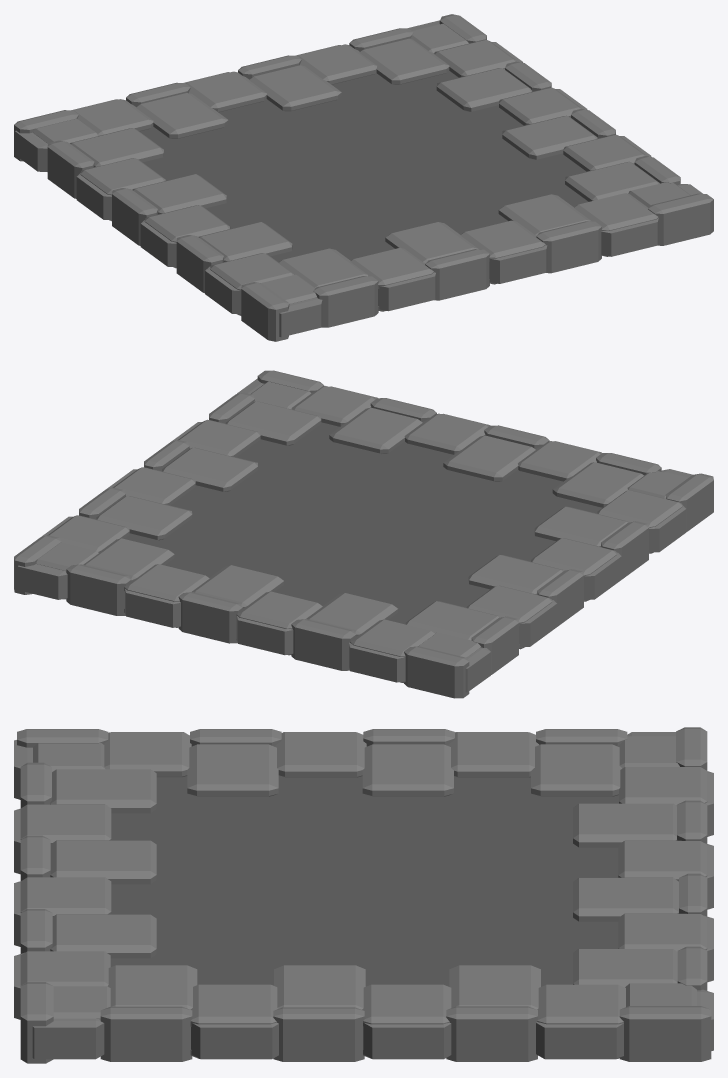
The model's file is DungeonWallTop.fbx.
The picture shows the model from 3 angles, top to bottom: view 1: azimuth 30°, elevation 25°; view 2: azimuth 150°, elevation 25°; view 3: azimuth 270°, elevation 25°; orthographic projection. The views are drawn at different scales.
Parts seen in each view (by area): view 1: DungeonWallTop; view 2: DungeonWallTop; view 3: DungeonWallTop.
Boxes of the visible parts, <box> form: DungeonWallTop: <box>14,14,713,341</box>; DungeonWallTop: <box>14,370,713,698</box>; DungeonWallTop: <box>14,727,713,1063</box>.
Size of the model in its own units: 520 by 39.04 by 520.
1 material, 1 textured.
